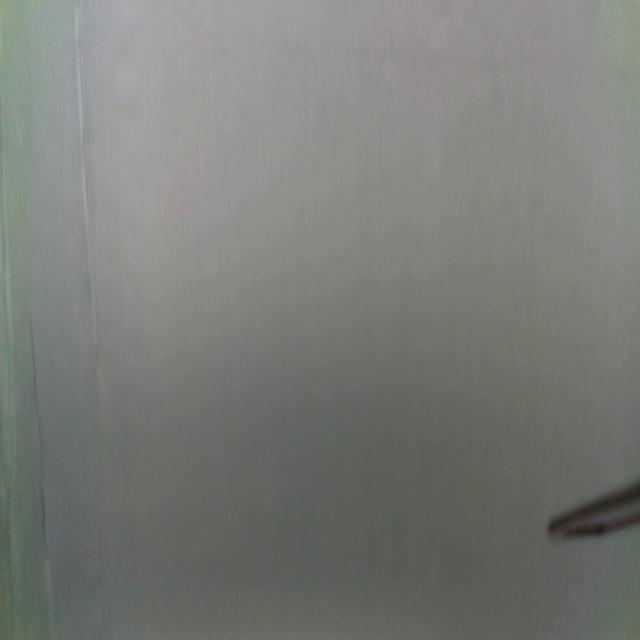crease: (0, 137, 20, 638), (76, 0, 100, 355), (29, 313, 56, 626)
